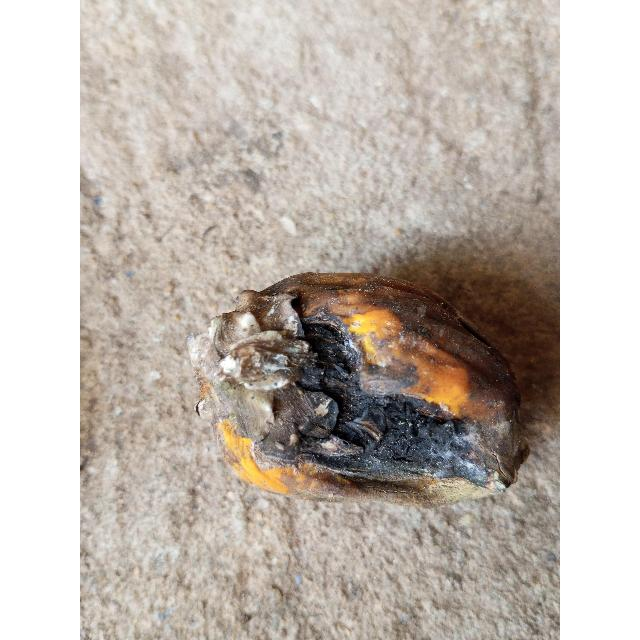damaged: (188, 273, 529, 505)
